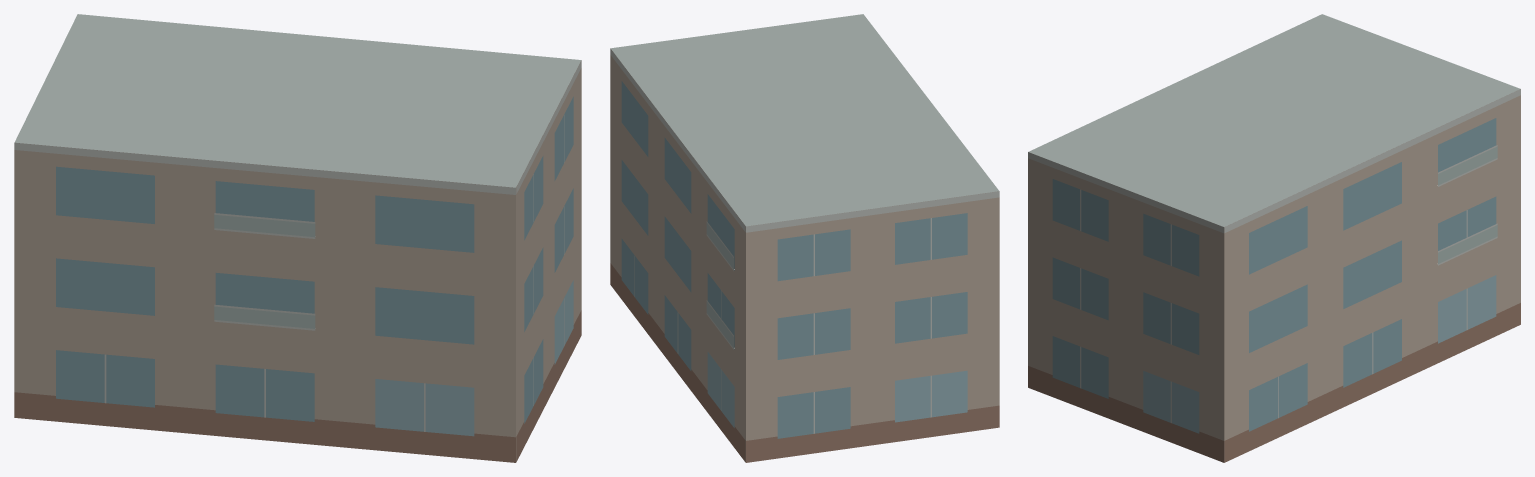
Rendered from survey-upis-32508296.glb.
3 renders of one model, left to right at view 1: azimuth 30°, elevation 25°; view 2: azimuth 150°, elevation 25°; view 3: azimuth 270°, elevation 25°, orthographic. The views are drawn at different scales.
Parts seen in each view (by area): view 1: survey-upis-32508296.tmp; view 2: survey-upis-32508296.tmp; view 3: survey-upis-32508296.tmp.
Boxes of the visible parts, box(x1,y1,x2,y2) form: survey-upis-32508296.tmp: box(14, 14, 581, 462); survey-upis-32508296.tmp: box(610, 14, 999, 462); survey-upis-32508296.tmp: box(1028, 14, 1520, 462).
Bounding box in the file's own units: 17.76 × 9.15 × 17.34.
